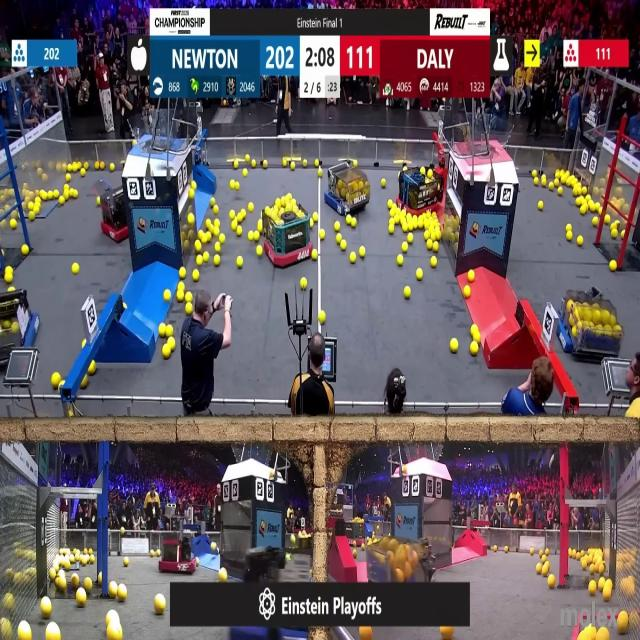ball_airborne: (360, 626, 371, 640)
ball_ground: (41, 598, 52, 618), (154, 594, 164, 614), (76, 588, 86, 606), (116, 586, 126, 602), (4, 268, 13, 284), (219, 568, 227, 583), (598, 628, 608, 640), (54, 373, 62, 388), (470, 324, 478, 338), (589, 582, 597, 596), (603, 588, 611, 602), (469, 343, 477, 356), (164, 346, 172, 359), (451, 339, 458, 353), (90, 360, 97, 374), (462, 286, 470, 298), (22, 244, 30, 256), (72, 264, 79, 276), (191, 270, 198, 282), (213, 254, 220, 266), (318, 312, 325, 324), (160, 324, 167, 336), (403, 287, 410, 299), (299, 278, 306, 290), (70, 188, 78, 198), (185, 305, 192, 316), (609, 262, 616, 273), (429, 256, 436, 267), (417, 269, 423, 281), (180, 268, 186, 280), (358, 246, 364, 258), (541, 564, 547, 576), (167, 324, 173, 336), (81, 377, 87, 389), (431, 242, 438, 252), (185, 291, 192, 301), (177, 291, 184, 301), (396, 255, 403, 265), (467, 272, 474, 282), (256, 245, 262, 256), (576, 236, 582, 247), (312, 249, 318, 260), (204, 252, 210, 263), (205, 234, 212, 243), (431, 232, 438, 241), (388, 224, 395, 233), (537, 201, 543, 211), (350, 252, 356, 262), (593, 216, 599, 226), (566, 232, 572, 242), (536, 564, 542, 574), (194, 241, 200, 251), (408, 234, 414, 244), (342, 238, 348, 248), (195, 254, 201, 264), (253, 234, 260, 242), (98, 572, 103, 583), (248, 233, 254, 242), (424, 232, 430, 241), (219, 235, 225, 244), (611, 231, 617, 240), (346, 216, 352, 225), (402, 243, 407, 253), (10, 219, 16, 227), (178, 282, 184, 290), (579, 207, 585, 215), (66, 174, 72, 182), (210, 199, 216, 207), (336, 221, 341, 230), (337, 234, 342, 243), (233, 221, 238, 230), (320, 230, 324, 241), (566, 223, 572, 230), (532, 171, 538, 178), (428, 240, 432, 250), (575, 198, 580, 206), (264, 162, 269, 170), (388, 201, 393, 209), (248, 204, 253, 212), (236, 180, 240, 190), (82, 556, 87, 564), (401, 222, 406, 230), (123, 558, 127, 567), (314, 212, 318, 221), (492, 544, 498, 550), (80, 169, 84, 177), (234, 162, 238, 170), (61, 198, 65, 206), (194, 558, 198, 566), (503, 545, 508, 551), (65, 184, 70, 190), (252, 162, 256, 169), (244, 169, 248, 176), (537, 181, 541, 187), (230, 185, 233, 190), (151, 553, 153, 557)
goal: (460, 118, 515, 158), (130, 117, 184, 152)
robot_blue: (559, 286, 622, 358), (325, 161, 371, 216)
robot_red: (262, 198, 312, 269), (398, 166, 444, 214), (102, 183, 133, 246), (158, 531, 198, 575), (346, 516, 367, 545)
